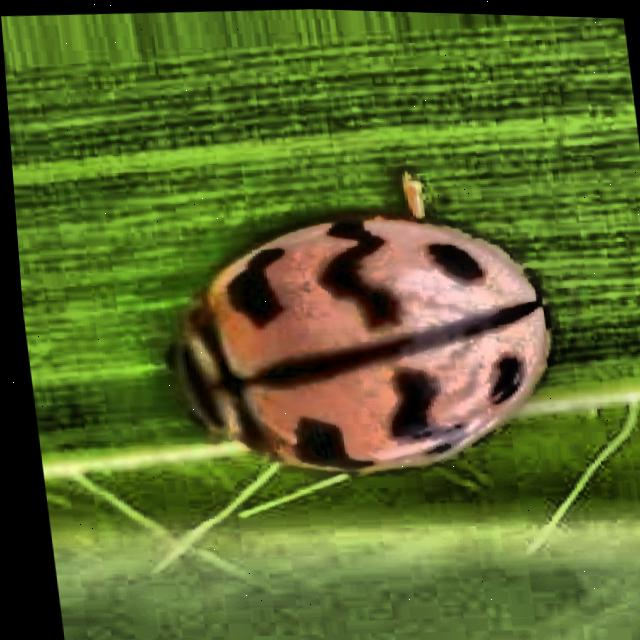Asian-Lady-beetle: (130, 169, 585, 507)
